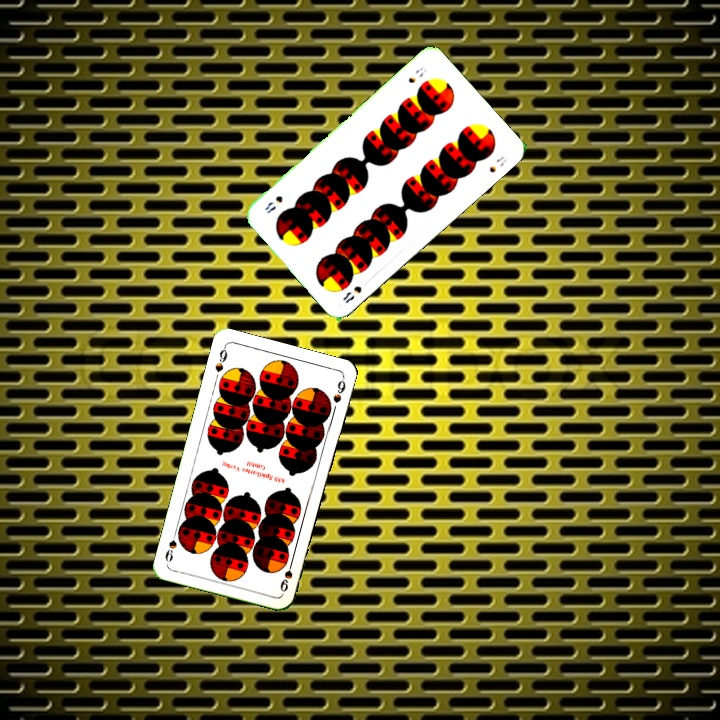S8: (338, 282, 364, 306), (404, 63, 429, 86)
S9: (276, 555, 296, 594), (211, 342, 230, 375)
